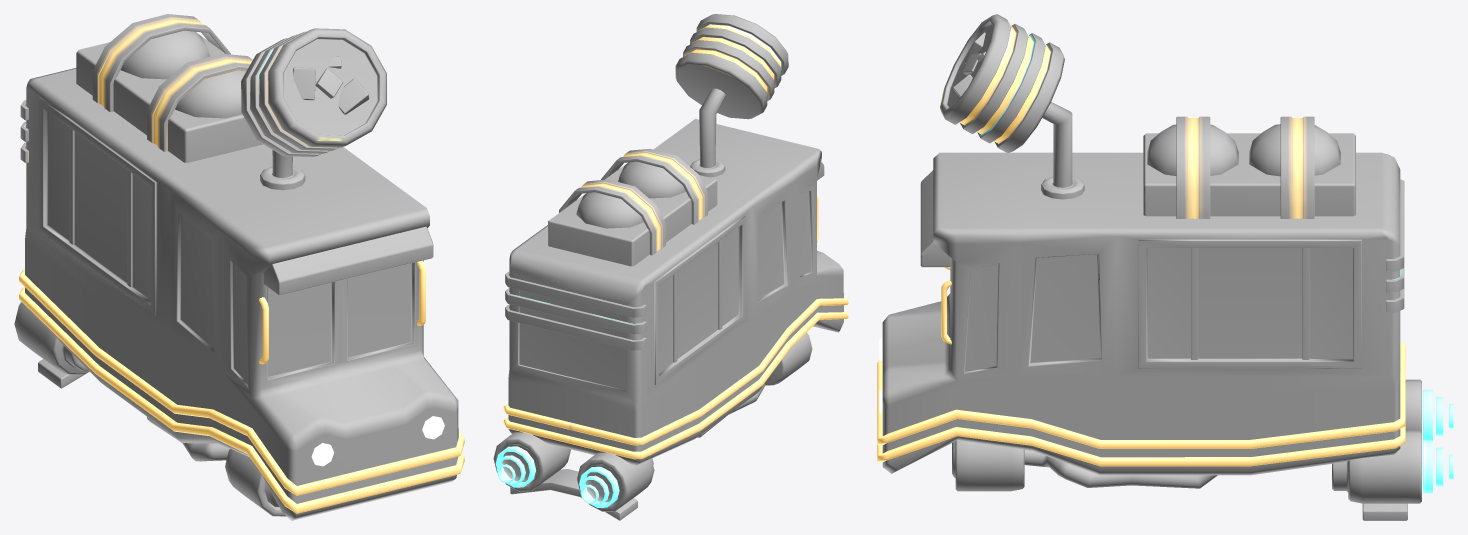
File: Car_6.fbx
3 views of the same model, side by side, from view 1: azimuth 30°, elevation 25°; view 2: azimuth 150°, elevation 25°; view 3: azimuth 270°, elevation 25° (orthographic). The views are drawn at different scales.
Parts seen in each view (by area): view 1: Car_6; view 2: Car_6; view 3: Car_6.
Part boxes in pixels (x1,y1,x2,y2): Car_6: (14,14,464,520); Car_6: (493,14,848,520); Car_6: (877,14,1453,520).
Bounding box in the file's own units: 425 × 1076 × 1211.
